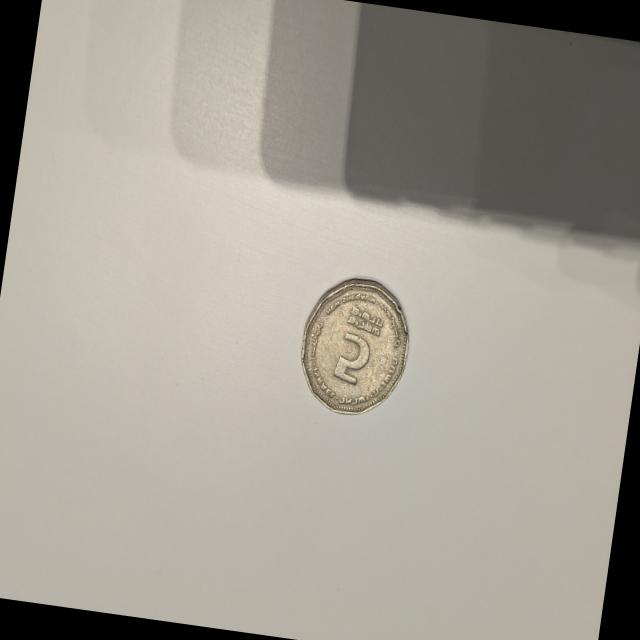5-shekel: (289, 262, 426, 424)
